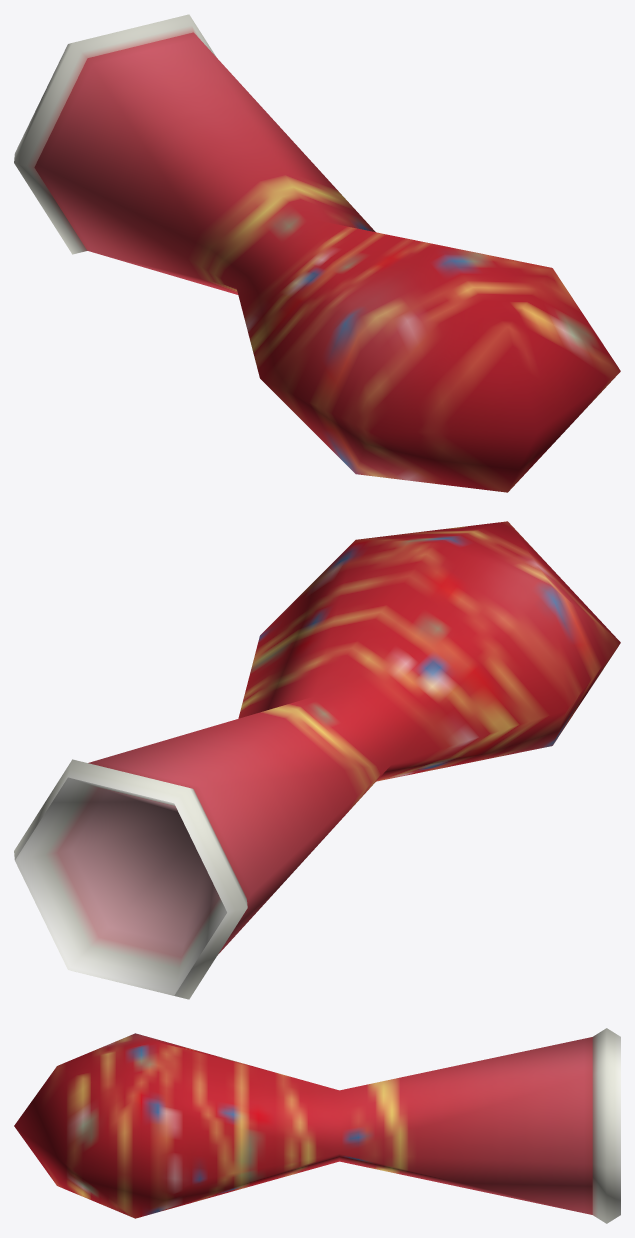
File: jsf_Balloon_05.fbx
The picture shows the model from 3 angles, top to bottom: view 1: azimuth 30°, elevation 25°; view 2: azimuth 150°, elevation 25°; view 3: azimuth 270°, elevation 25°; orthographic projection. The views are drawn at different scales.
Visible parts, largest first — view 1: jsf_Balloon_05; view 2: jsf_Balloon_05; view 3: jsf_Balloon_05.
Part boxes in pixels (x1,y1,x2,y2): jsf_Balloon_05: (14,14,620,492); jsf_Balloon_05: (14,521,620,999); jsf_Balloon_05: (14,1028,620,1223).
Size of the model in its own units: 1.44 by 1.02 by 3.39.
